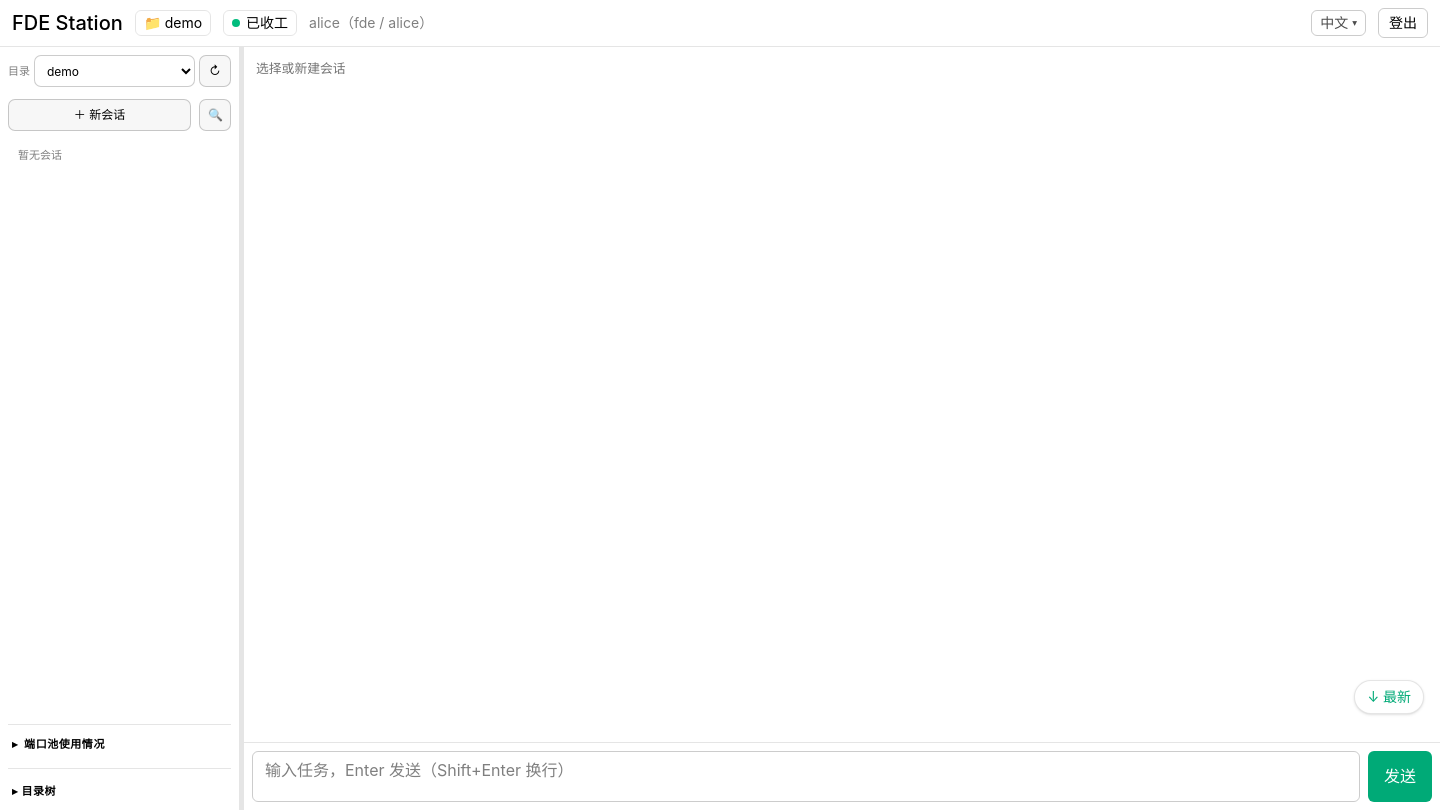
Test: WorkbenchView 顶栏 · i18n（issue #101 P2） › 切 English 后「↓ 最新」同样变英文
Expected: the button "↓ 最新" is shown, [1354,680,1424,714]
Click the button "中文 ▾".
click(1339, 23)  # box [1311,10,1366,36]
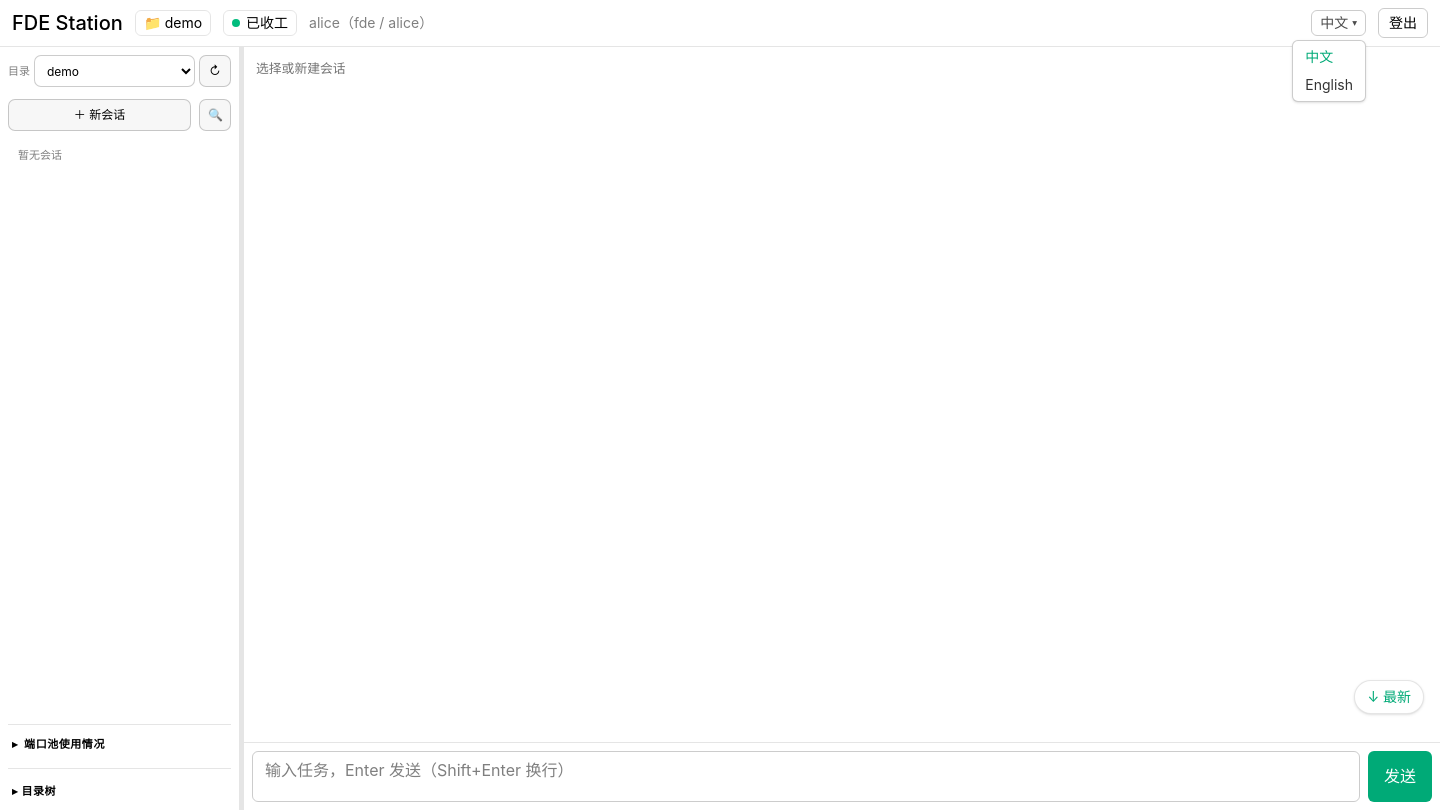
Click the menu item "English".
click(1329, 85)  # box [1293,71,1365,99]
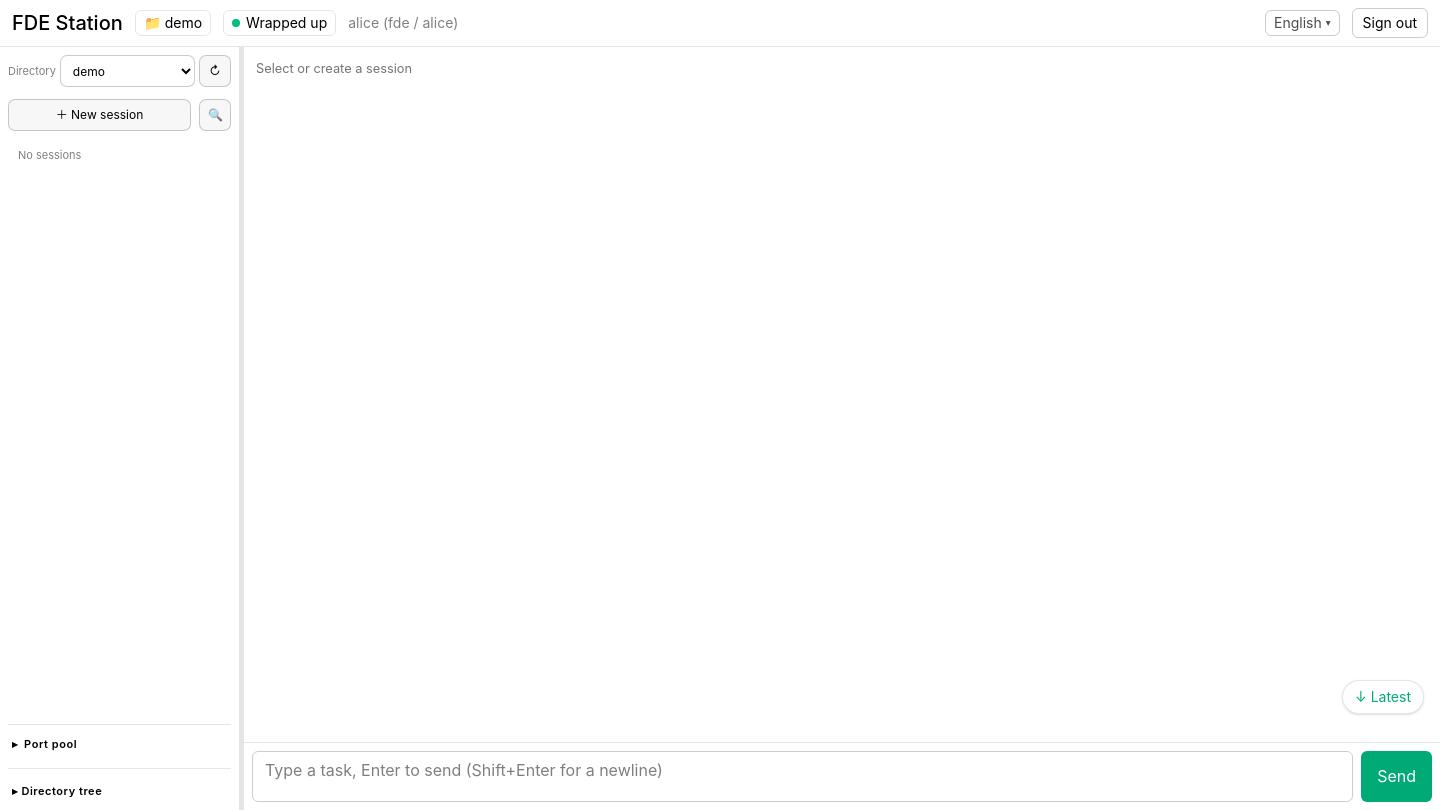
Expected: the button "↓ Latest" is shown, [1342,680,1424,714]
